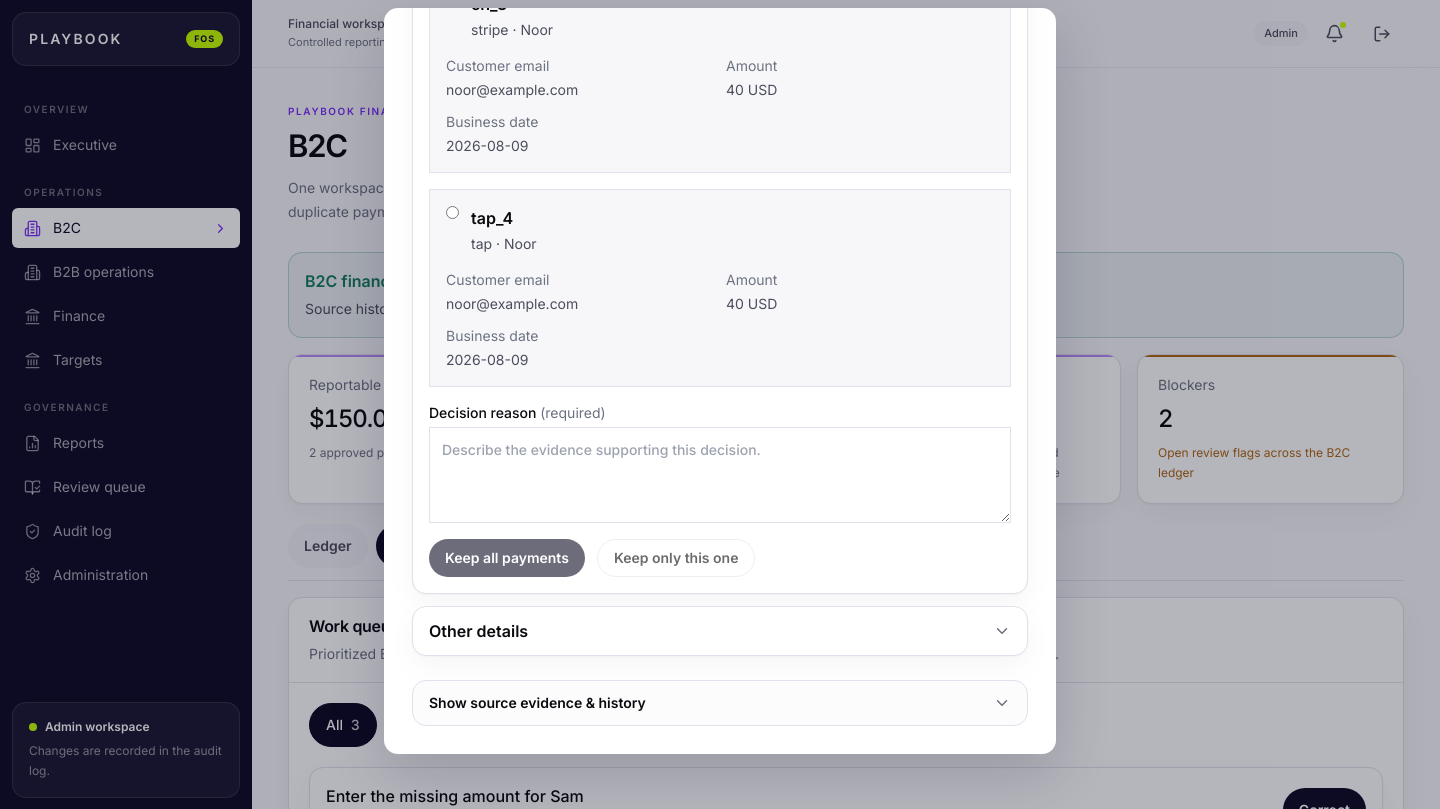
Test: Work queue › removes a resolved payment duplicate immediately and requests a background workspace reload
The width and height of the screenshot is (1440, 809).
(page scrolled)
Type "Finance verified the provider records are separate payments." into the text box named "Payment duplicate decision reason".
click(720, 475); type("Finance verified the provider records are separate payments.")  # box x1=429 y1=427 x2=1011 y2=523
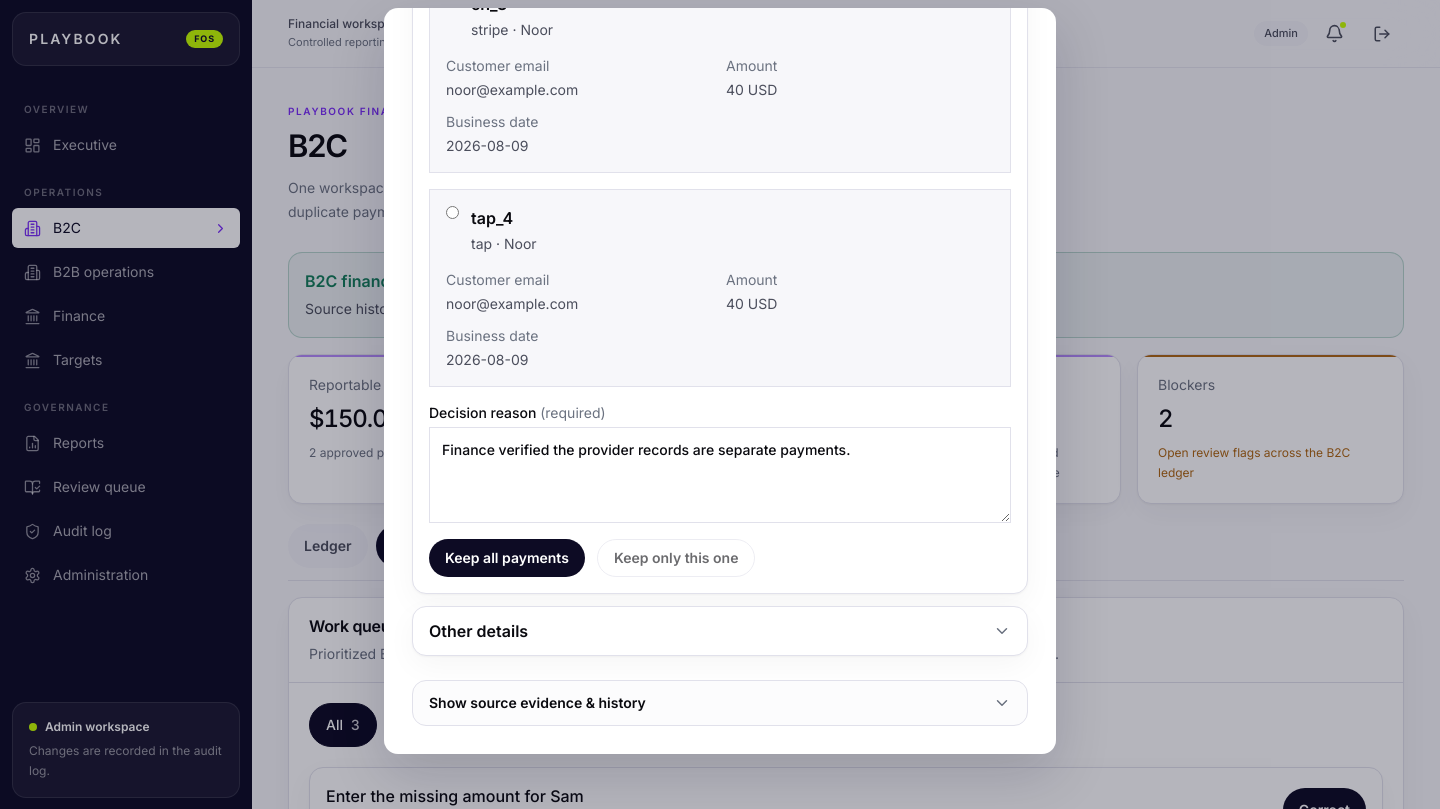
Click the button "Keep all payments".
click(507, 558)  # box x1=429 y1=539 x2=585 y2=577
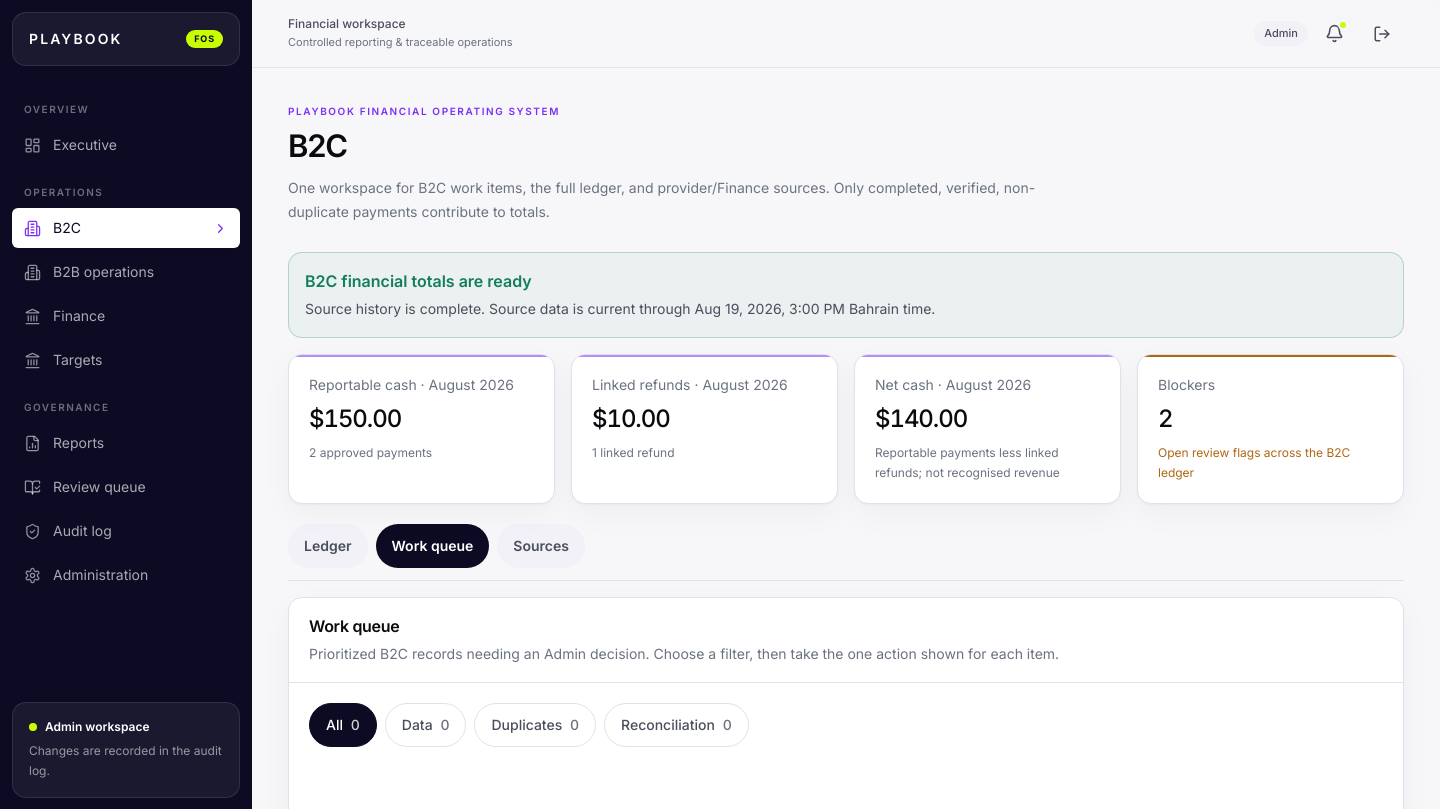
expect the dialog is gone: met
